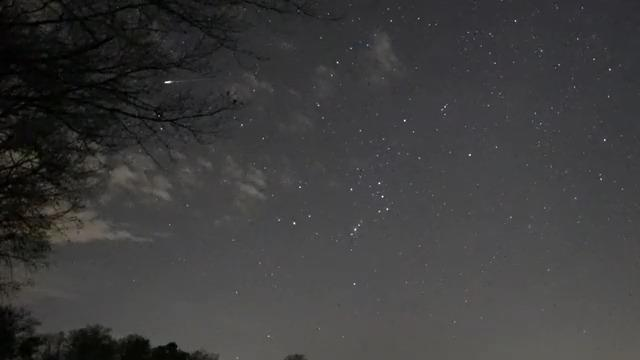meteorite: (160, 72, 221, 89)
